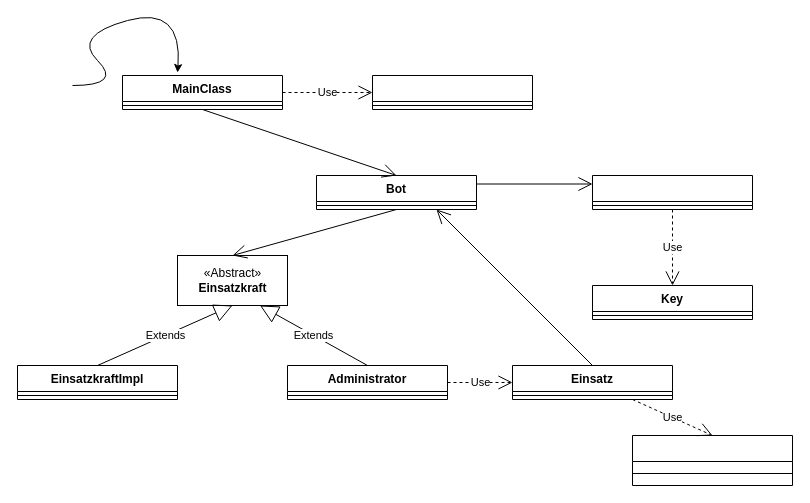
This 810x503 diagram has some shape labels left out. Here are the shapes that lost their labels. From the top down, the centre of each, then its label:
pixel 452 92: Initialisierer
pixel 672 192: NeuerNutzerInitialisierer
pixel 712 460: ChatBotGruppe extends Runnable
